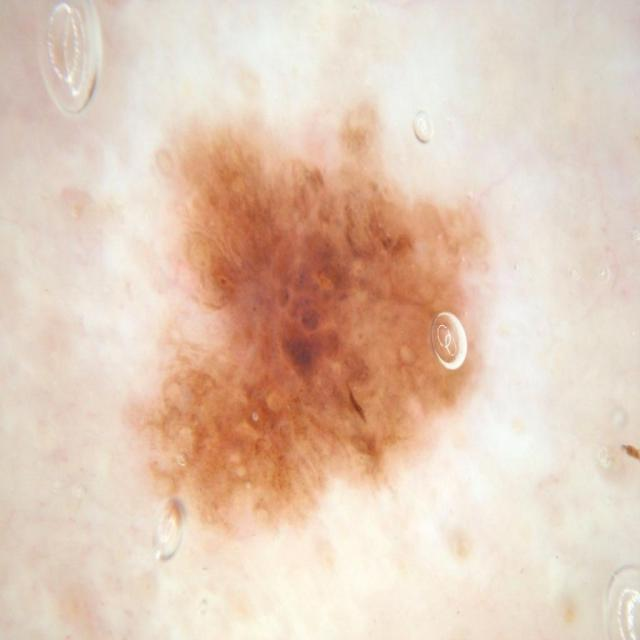Skin-Cancer Melanoma: (17, 22, 617, 640)
